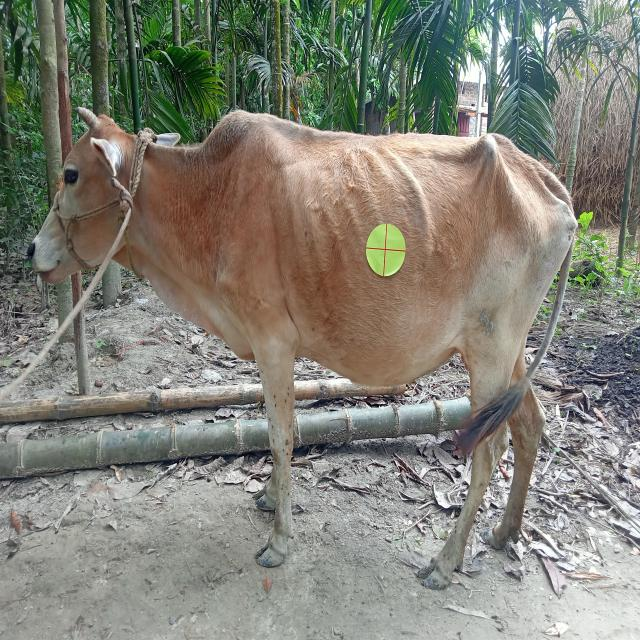badan_sapi: (215, 139, 579, 390)
sapi: (22, 93, 588, 607)
